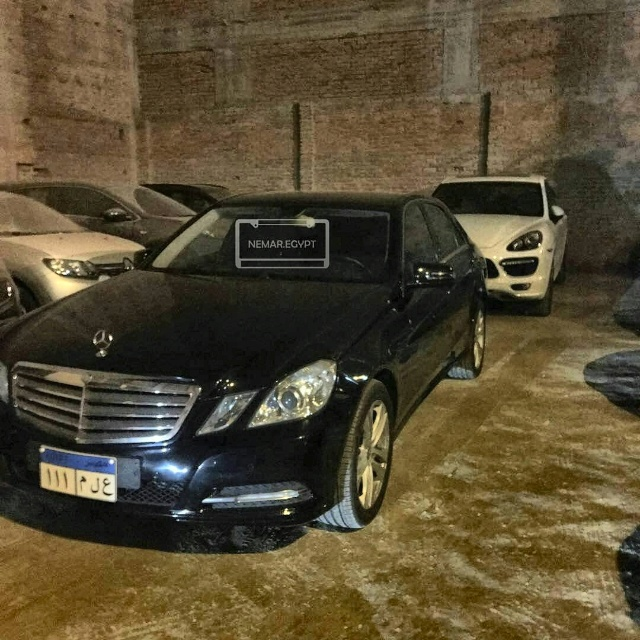License Plate: (33, 441, 120, 508)
